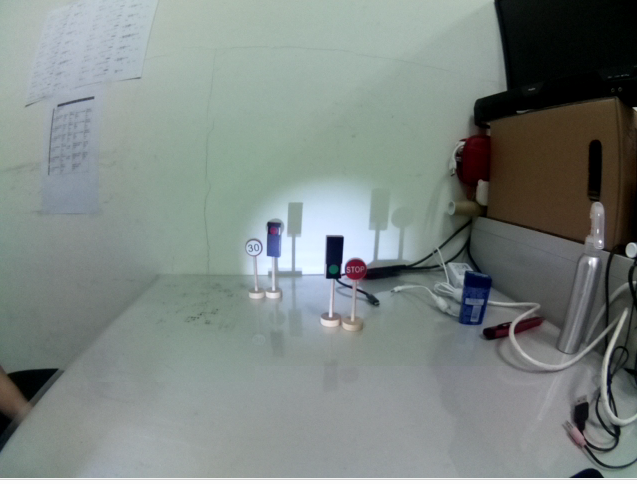Green: (323, 233, 345, 284)
Red: (266, 217, 283, 261)
Speed30: (244, 238, 264, 258)
Stop: (344, 257, 366, 281)
